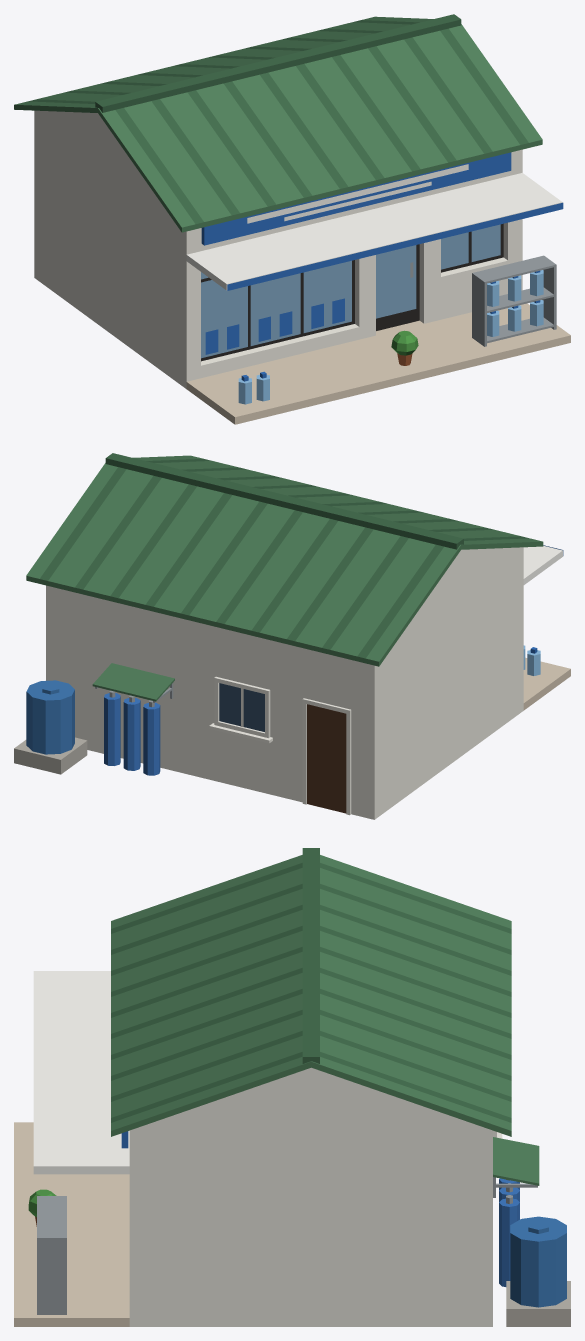
The model's file is warung_09.glb.
3 views of the same model, one above another, from view 1: azimuth 30°, elevation 25°; view 2: azimuth 150°, elevation 25°; view 3: azimuth 270°, elevation 25° (orthographic). The views are drawn at different scales.
Visible parts, largest first — view 1: warung_09; view 2: warung_09; view 3: warung_09.
Part boxes in pixels (x1,y1,x2,y2): warung_09: (14, 14, 570, 424); warung_09: (14, 453, 570, 819); warung_09: (14, 848, 570, 1326).
Size of the model in its own units: 7.52 by 4.62 by 8.43.
